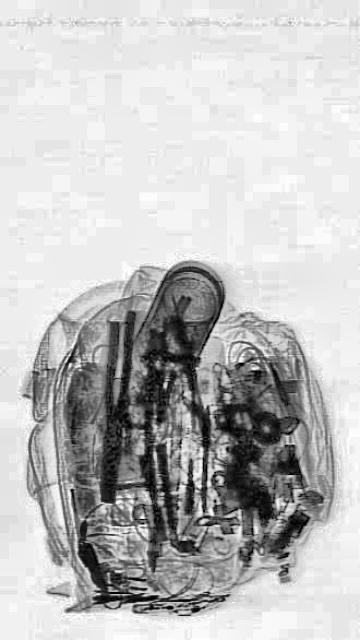Pliers: (92, 306, 136, 504)
